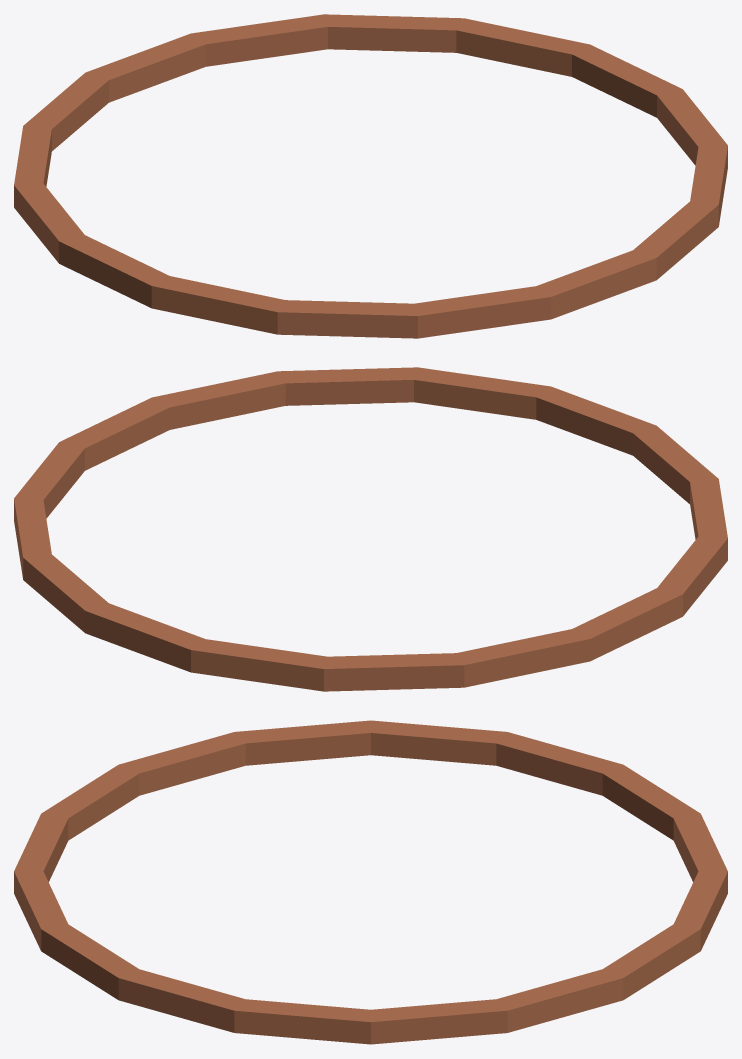
Rendered from helpfulhelmet.glb.
3 views of the same model, one above another, from view 1: azimuth 30°, elevation 25°; view 2: azimuth 150°, elevation 25°; view 3: azimuth 270°, elevation 25° (orthographic).
Parts seen in each view (by area): view 1: Plane; view 2: Plane; view 3: Plane.
Boxes of the visible parts, x1,y1,x2,y2 form: Plane: (14,14,727,338); Plane: (14,367,727,691); Plane: (14,720,727,1044).
Bounding box in the file's own units: 1.21 × 0.0419 × 1.21.
Materials: 1 (1 with a texture image).
